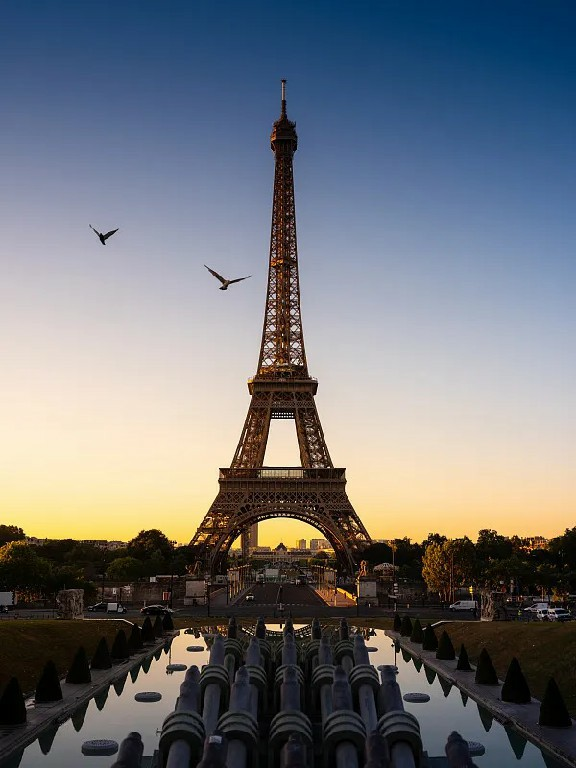Eiffel: (188, 79, 372, 573)
